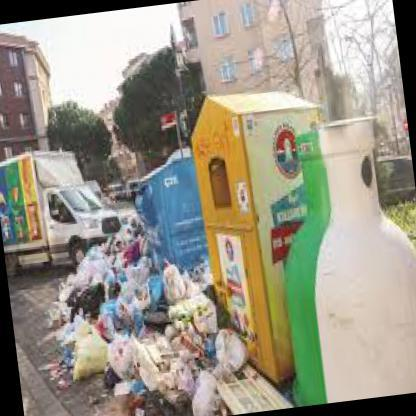Garbage: (88, 252, 150, 335), (65, 314, 115, 380), (35, 341, 84, 394), (104, 372, 155, 415), (182, 370, 229, 416), (214, 321, 251, 375), (104, 326, 140, 377), (48, 297, 94, 334), (191, 296, 231, 330), (140, 276, 168, 314), (160, 318, 188, 354), (118, 233, 146, 268), (160, 263, 185, 302), (60, 264, 94, 286), (76, 278, 96, 298)
